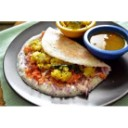dosa: (15, 29, 110, 96)
